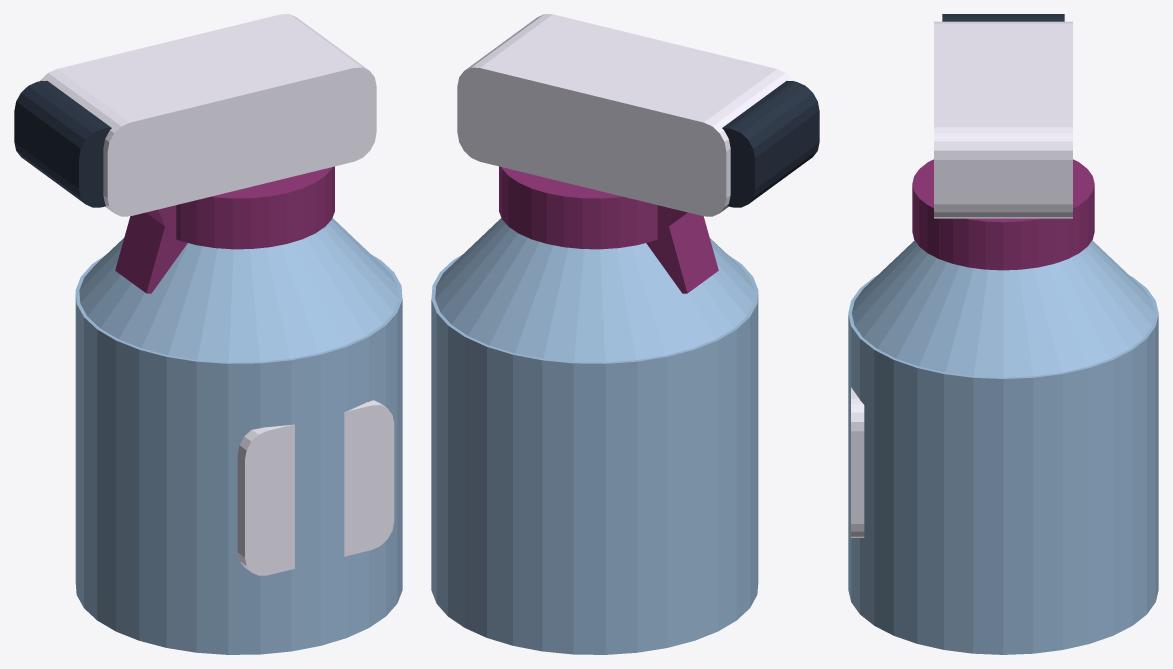
The model's file is lensbottle.glb.
3 views of the same model, side by side, from view 1: azimuth 30°, elevation 25°; view 2: azimuth 150°, elevation 25°; view 3: azimuth 270°, elevation 25° (orthographic). The views are drawn at different scales.
Visible parts, largest first — view 1: bottle, sprayer, shoulder, label, collar, nozzle, trigger; view 2: bottle, sprayer, shoulder, collar, nozzle, trigger; view 3: bottle, shoulder, sprayer, collar, label, nozzle.
Part boxes in pixels (<box>): bottle: <box>75,255,402,654</box>; sprayer: <box>40,14,376,216</box>; shoulder: <box>79,218,398,362</box>; label: <box>237,400,394,575</box>; collar: <box>176,166,334,249</box>; nozzle: <box>14,81,111,207</box>; trigger: <box>115,205,187,293</box>; bottle: <box>431,255,758,654</box>; sprayer: <box>457,14,793,216</box>; shoulder: <box>435,218,754,362</box>; collar: <box>499,166,657,249</box>; nozzle: <box>722,81,819,207</box>; trigger: <box>646,205,718,293</box>; bottle: <box>848,276,1158,654</box>; shoulder: <box>851,240,1155,377</box>; sprayer: <box>934,21,1072,218</box>; collar: <box>912,159,1094,270</box>; label: <box>851,387,864,537</box>; nozzle: <box>942,14,1064,21</box>.
Bounding box in the file's own units: 0.895 × 1.34 × 0.76.
